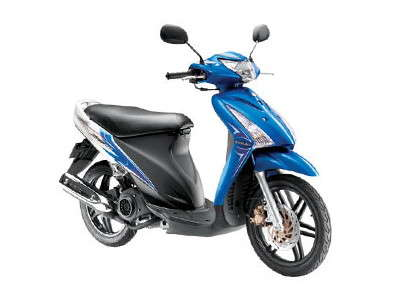motorcycle: (69, 50, 328, 275)
